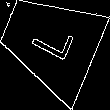L_NW: (23, 18, 76, 67)
